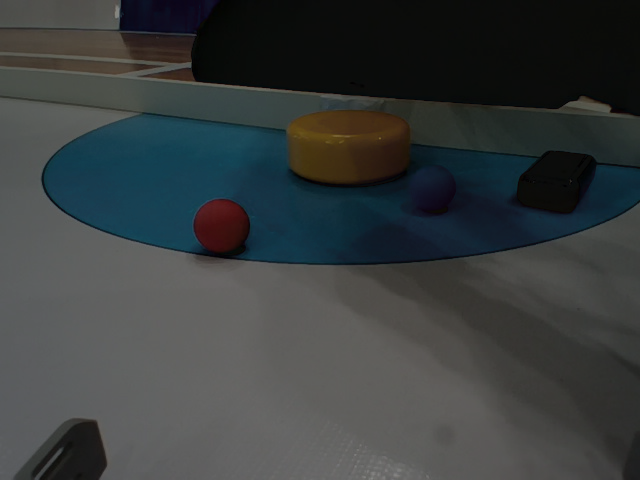black: (518, 131, 597, 225)
blue: (403, 160, 460, 221)
red: (194, 192, 261, 262)
yellow: (275, 106, 417, 181)
